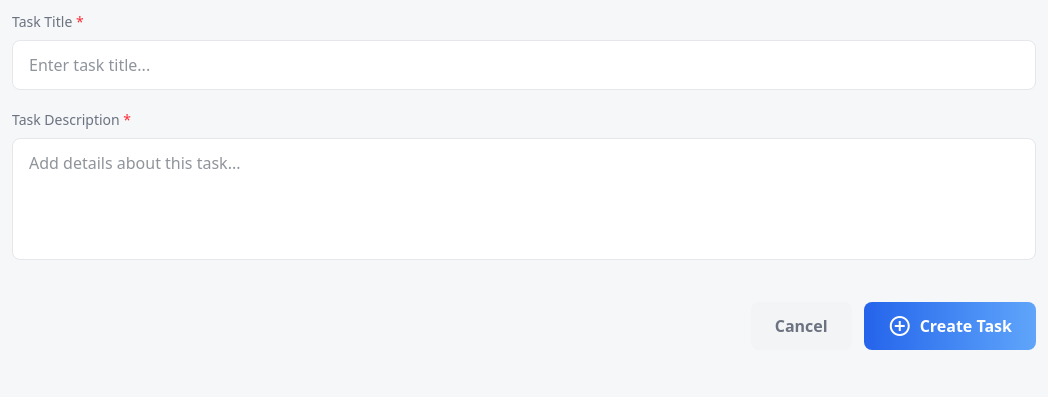
Test: TaskForm Component › should show title error when only description is provided
Type "My Description" into the text box with placeholder "Add details about this task..." at (524, 199), box 12,138 -> 1036,260
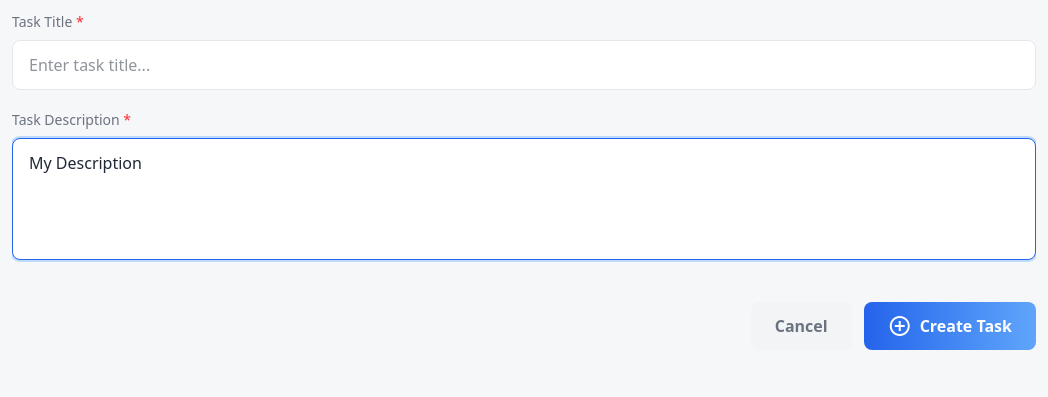
Click the button "Create Task" at (950, 326), box 864,302 -> 1036,350
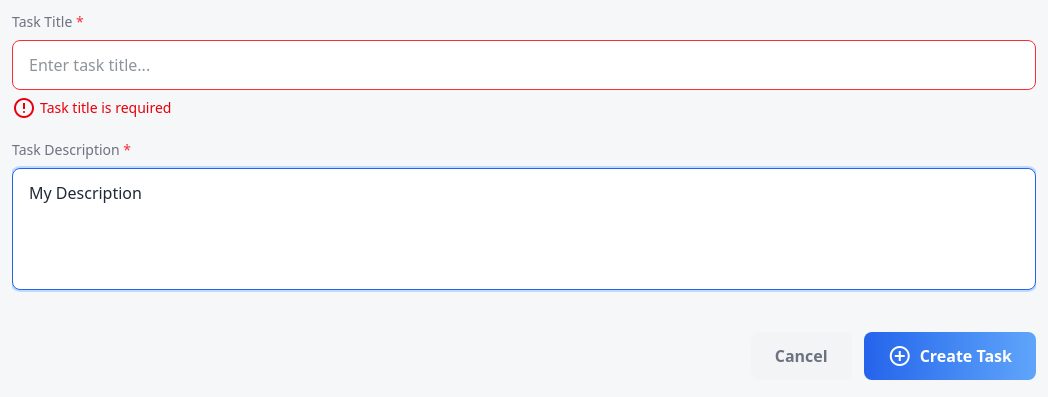
Expected: the text "Task title is required" is shown, 12,94 -> 172,122
